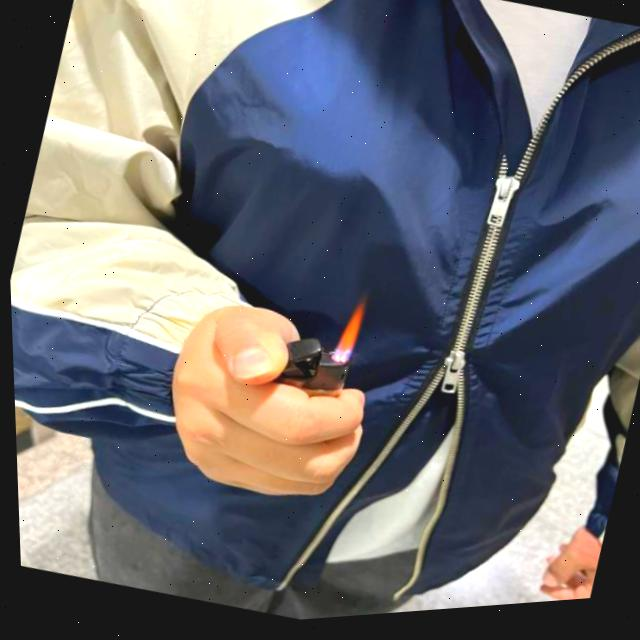Fire: (324, 298, 368, 365)
